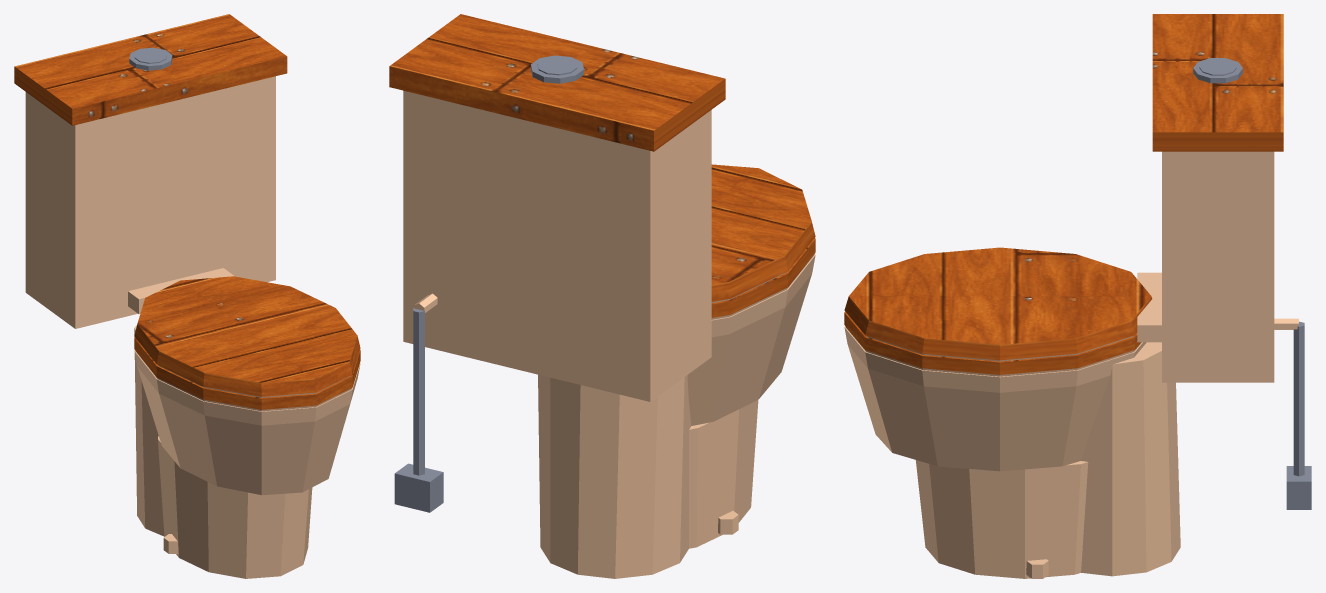
File: Toilet.fbx
The picture shows the model from 3 angles, left to right: view 1: azimuth 30°, elevation 25°; view 2: azimuth 150°, elevation 25°; view 3: azimuth 270°, elevation 25°; orthographic projection. The views are drawn at different scales.
Parts seen in each view (by area): view 1: Toilet; view 2: Toilet; view 3: Toilet.
Part boxes in pixels (left/top/right/bottom): Toilet: left=14, top=14, right=360, bottom=578; Toilet: left=389, top=14, right=815, bottom=578; Toilet: left=844, top=14, right=1311, bottom=578.
Size of the model in its own units: 0.45 by 0.851 by 0.75.
